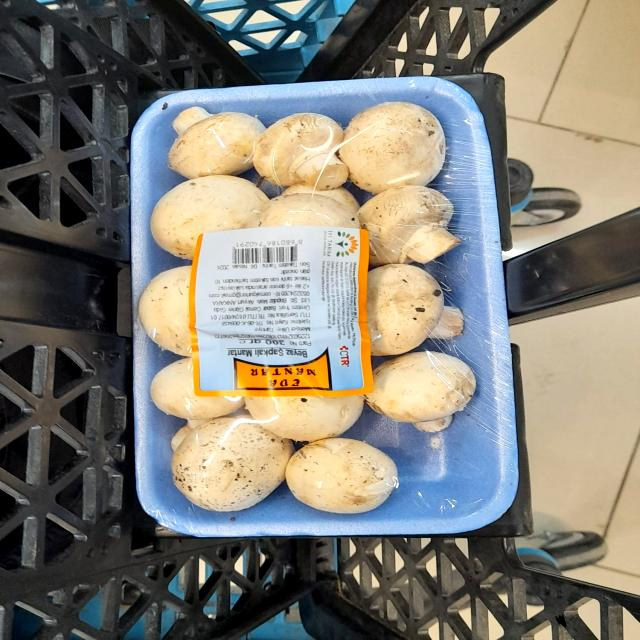mushroom: (154, 403, 288, 518), (347, 256, 488, 354), (337, 84, 464, 192), (360, 336, 493, 439), (283, 428, 422, 522), (348, 175, 479, 270), (160, 93, 264, 182), (248, 104, 352, 191)
